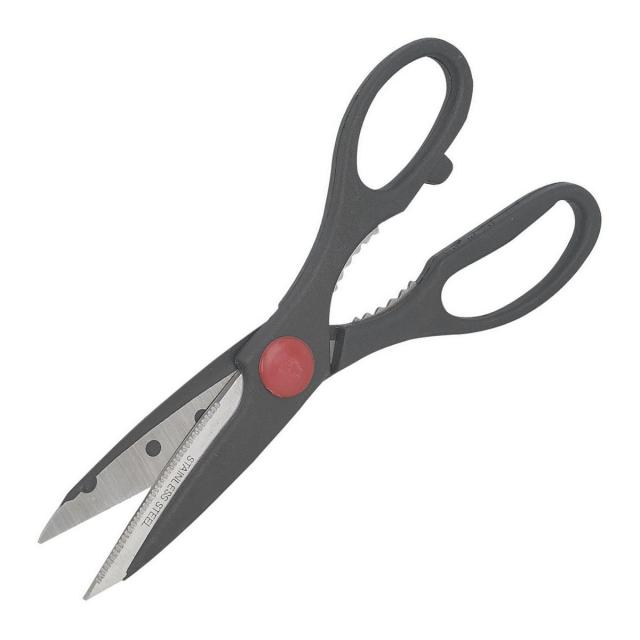scissor: (28, 38, 610, 609)
